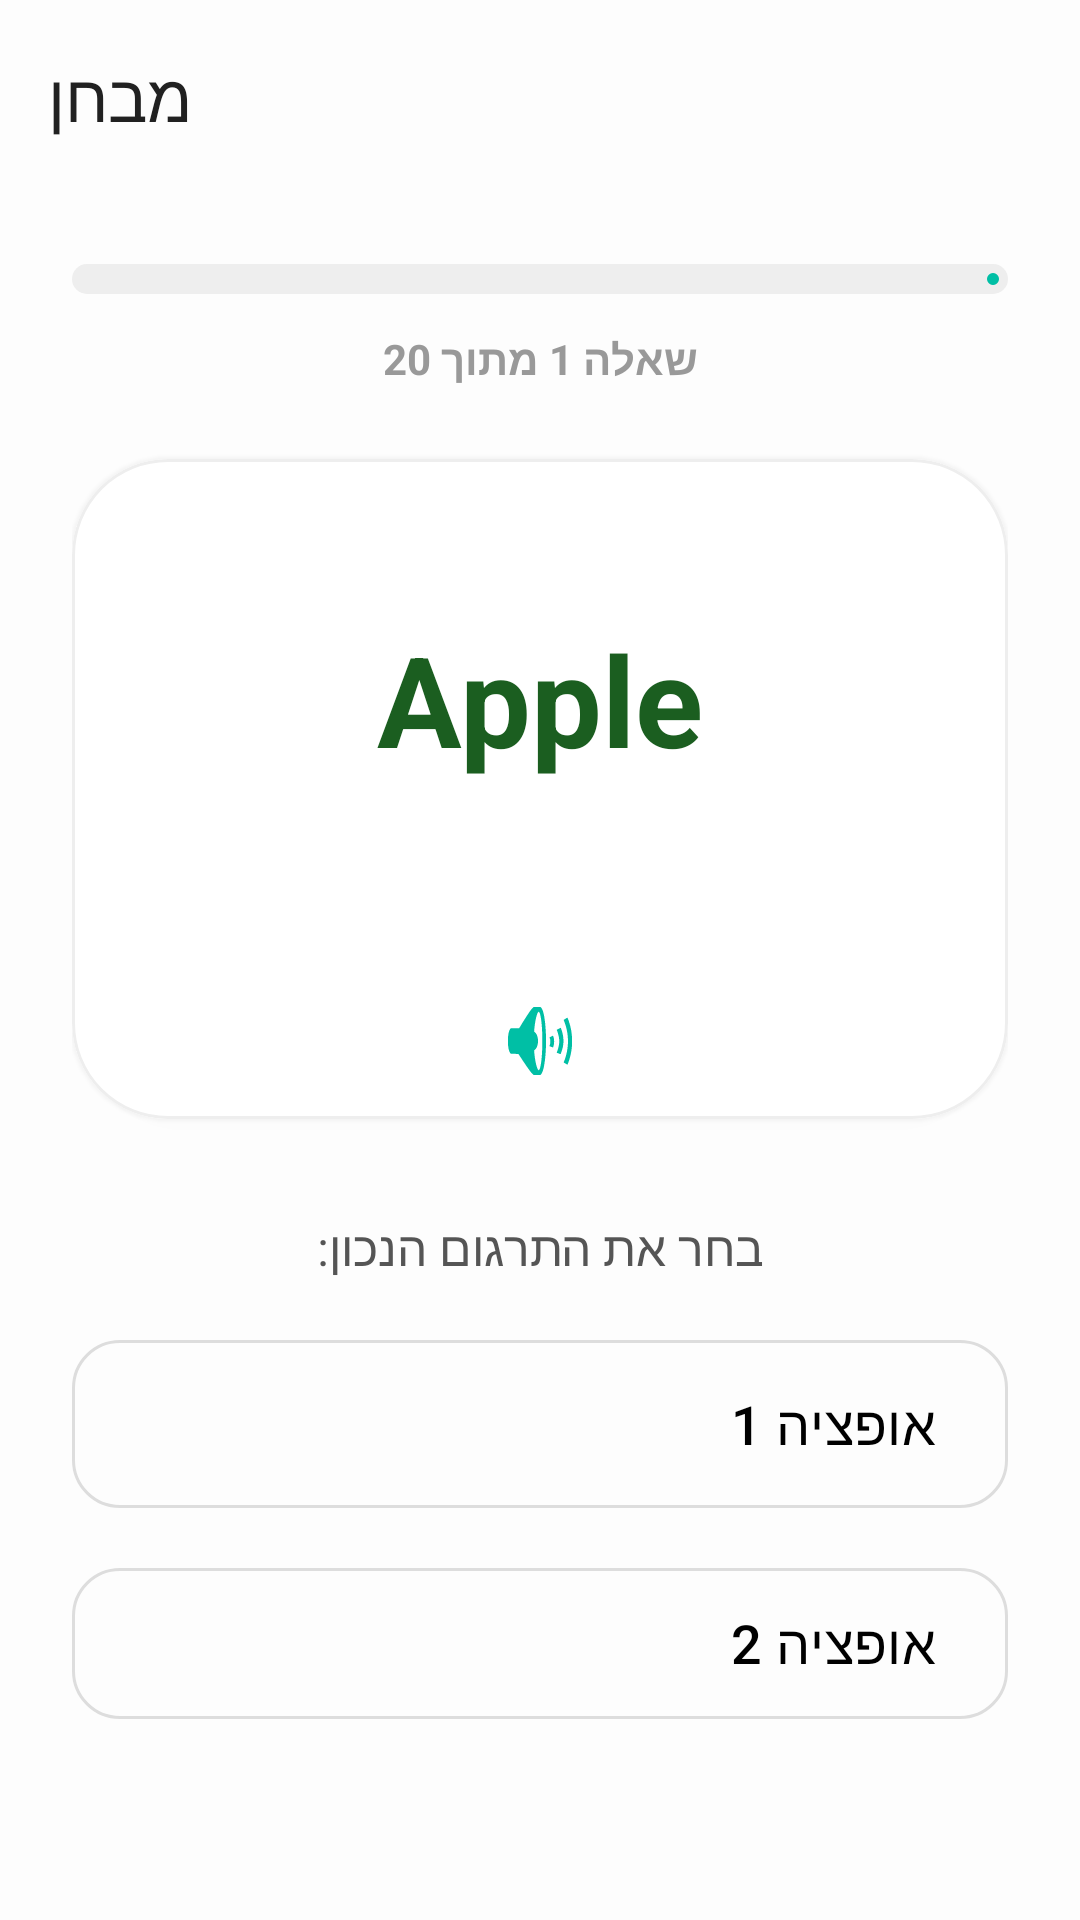

Point at icon controls on the screen. Image size 1080px x 1920px, points as (x,y).
השמע מילה: (540,1041)
